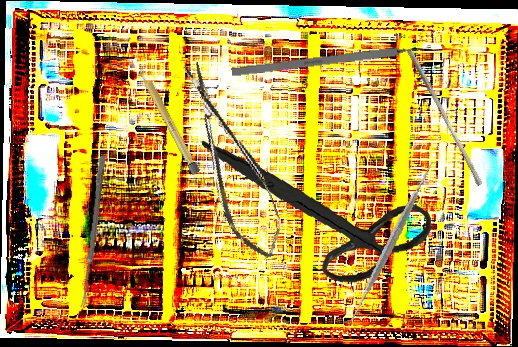Hook Surgical: (231, 42, 437, 77)
Iris Scissors: (201, 123, 436, 294)
Micro Scissor: (172, 53, 292, 267)
Pusher: (401, 47, 488, 187)
Scalpel Handle: (136, 65, 201, 176)
Spatula Surgical: (312, 160, 470, 325)
Surgical Spoon: (80, 155, 106, 308)
